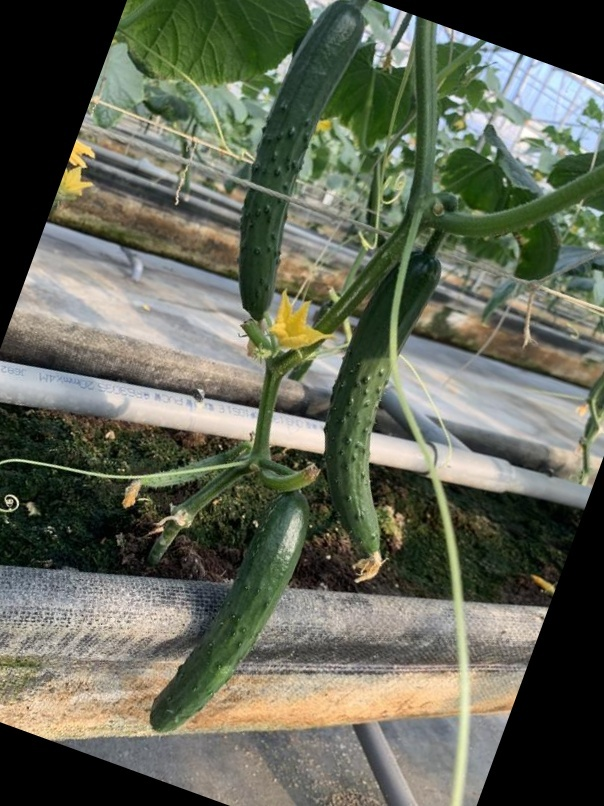mature: (230, 6, 366, 324), (147, 491, 317, 732), (324, 254, 444, 569)
